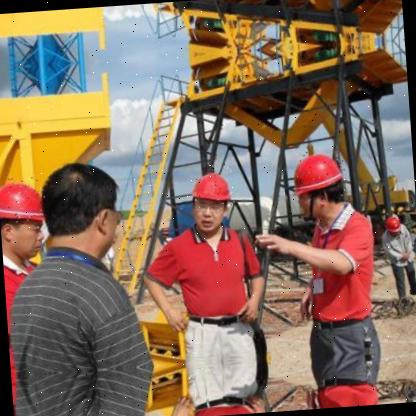bota: (240, 390, 271, 414)
capacete: (290, 152, 348, 224), (0, 183, 47, 262), (188, 172, 235, 232), (386, 214, 402, 233)
oculos: (192, 200, 228, 215)
